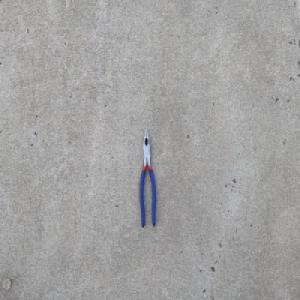Pliers: (138, 126, 156, 228)
